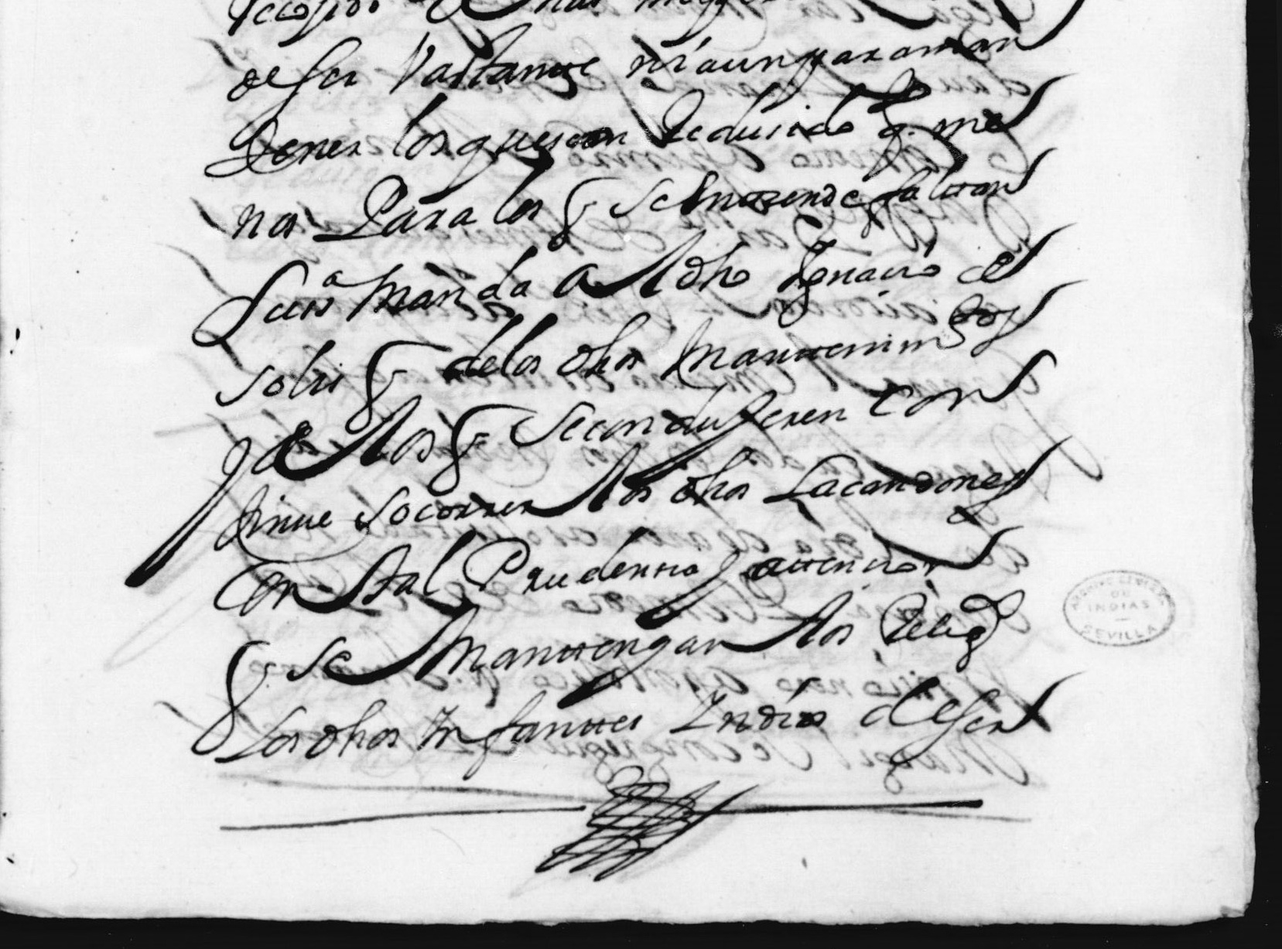lacandon: (762, 435, 1072, 524)
